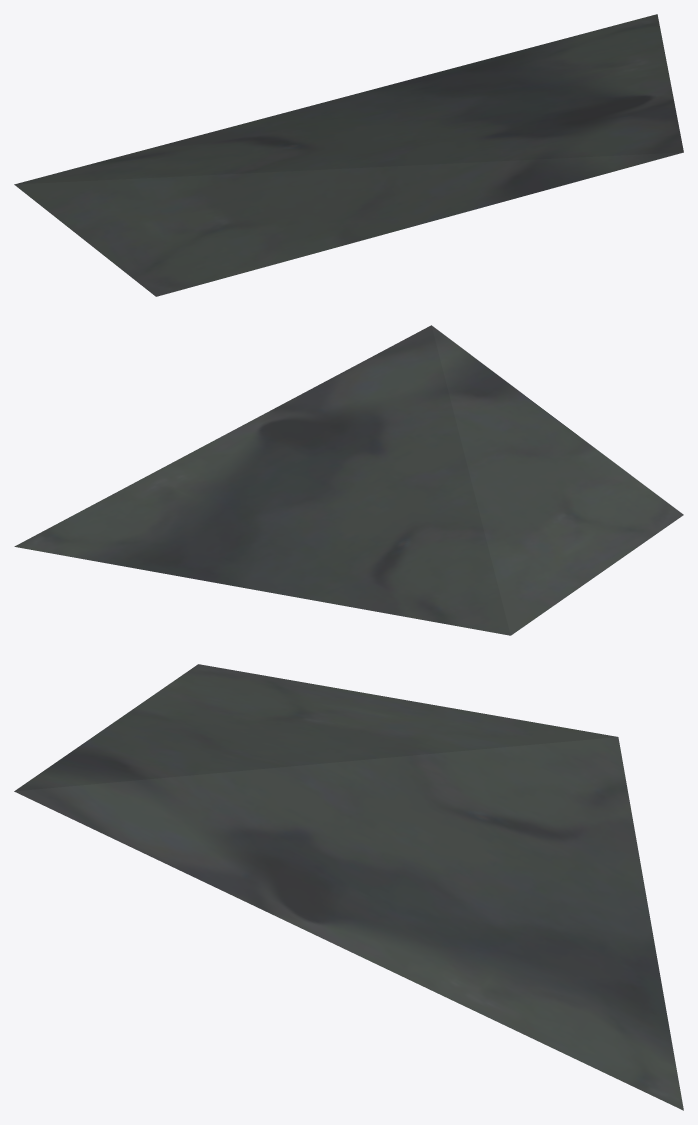
The model's file is Ridge_5_1_Top.gltf.
3 renders of one model, top to bottom at view 1: azimuth 30°, elevation 25°; view 2: azimuth 150°, elevation 25°; view 3: azimuth 270°, elevation 25°, orthographic. The views are drawn at different scales.
Visible parts, largest first — view 1: Ridge_5_1_Top; view 2: Ridge_5_1_Top; view 3: Ridge_5_1_Top.
Part boxes in pixels (<box>): Ridge_5_1_Top: <box>14,14,683,296</box>; Ridge_5_1_Top: <box>14,325,683,635</box>; Ridge_5_1_Top: <box>14,664,683,1110</box>.
Bounding box in the file's own units: 19.52 × 4.03 × 14.4.
Materials: 1 (1 with a texture image).
